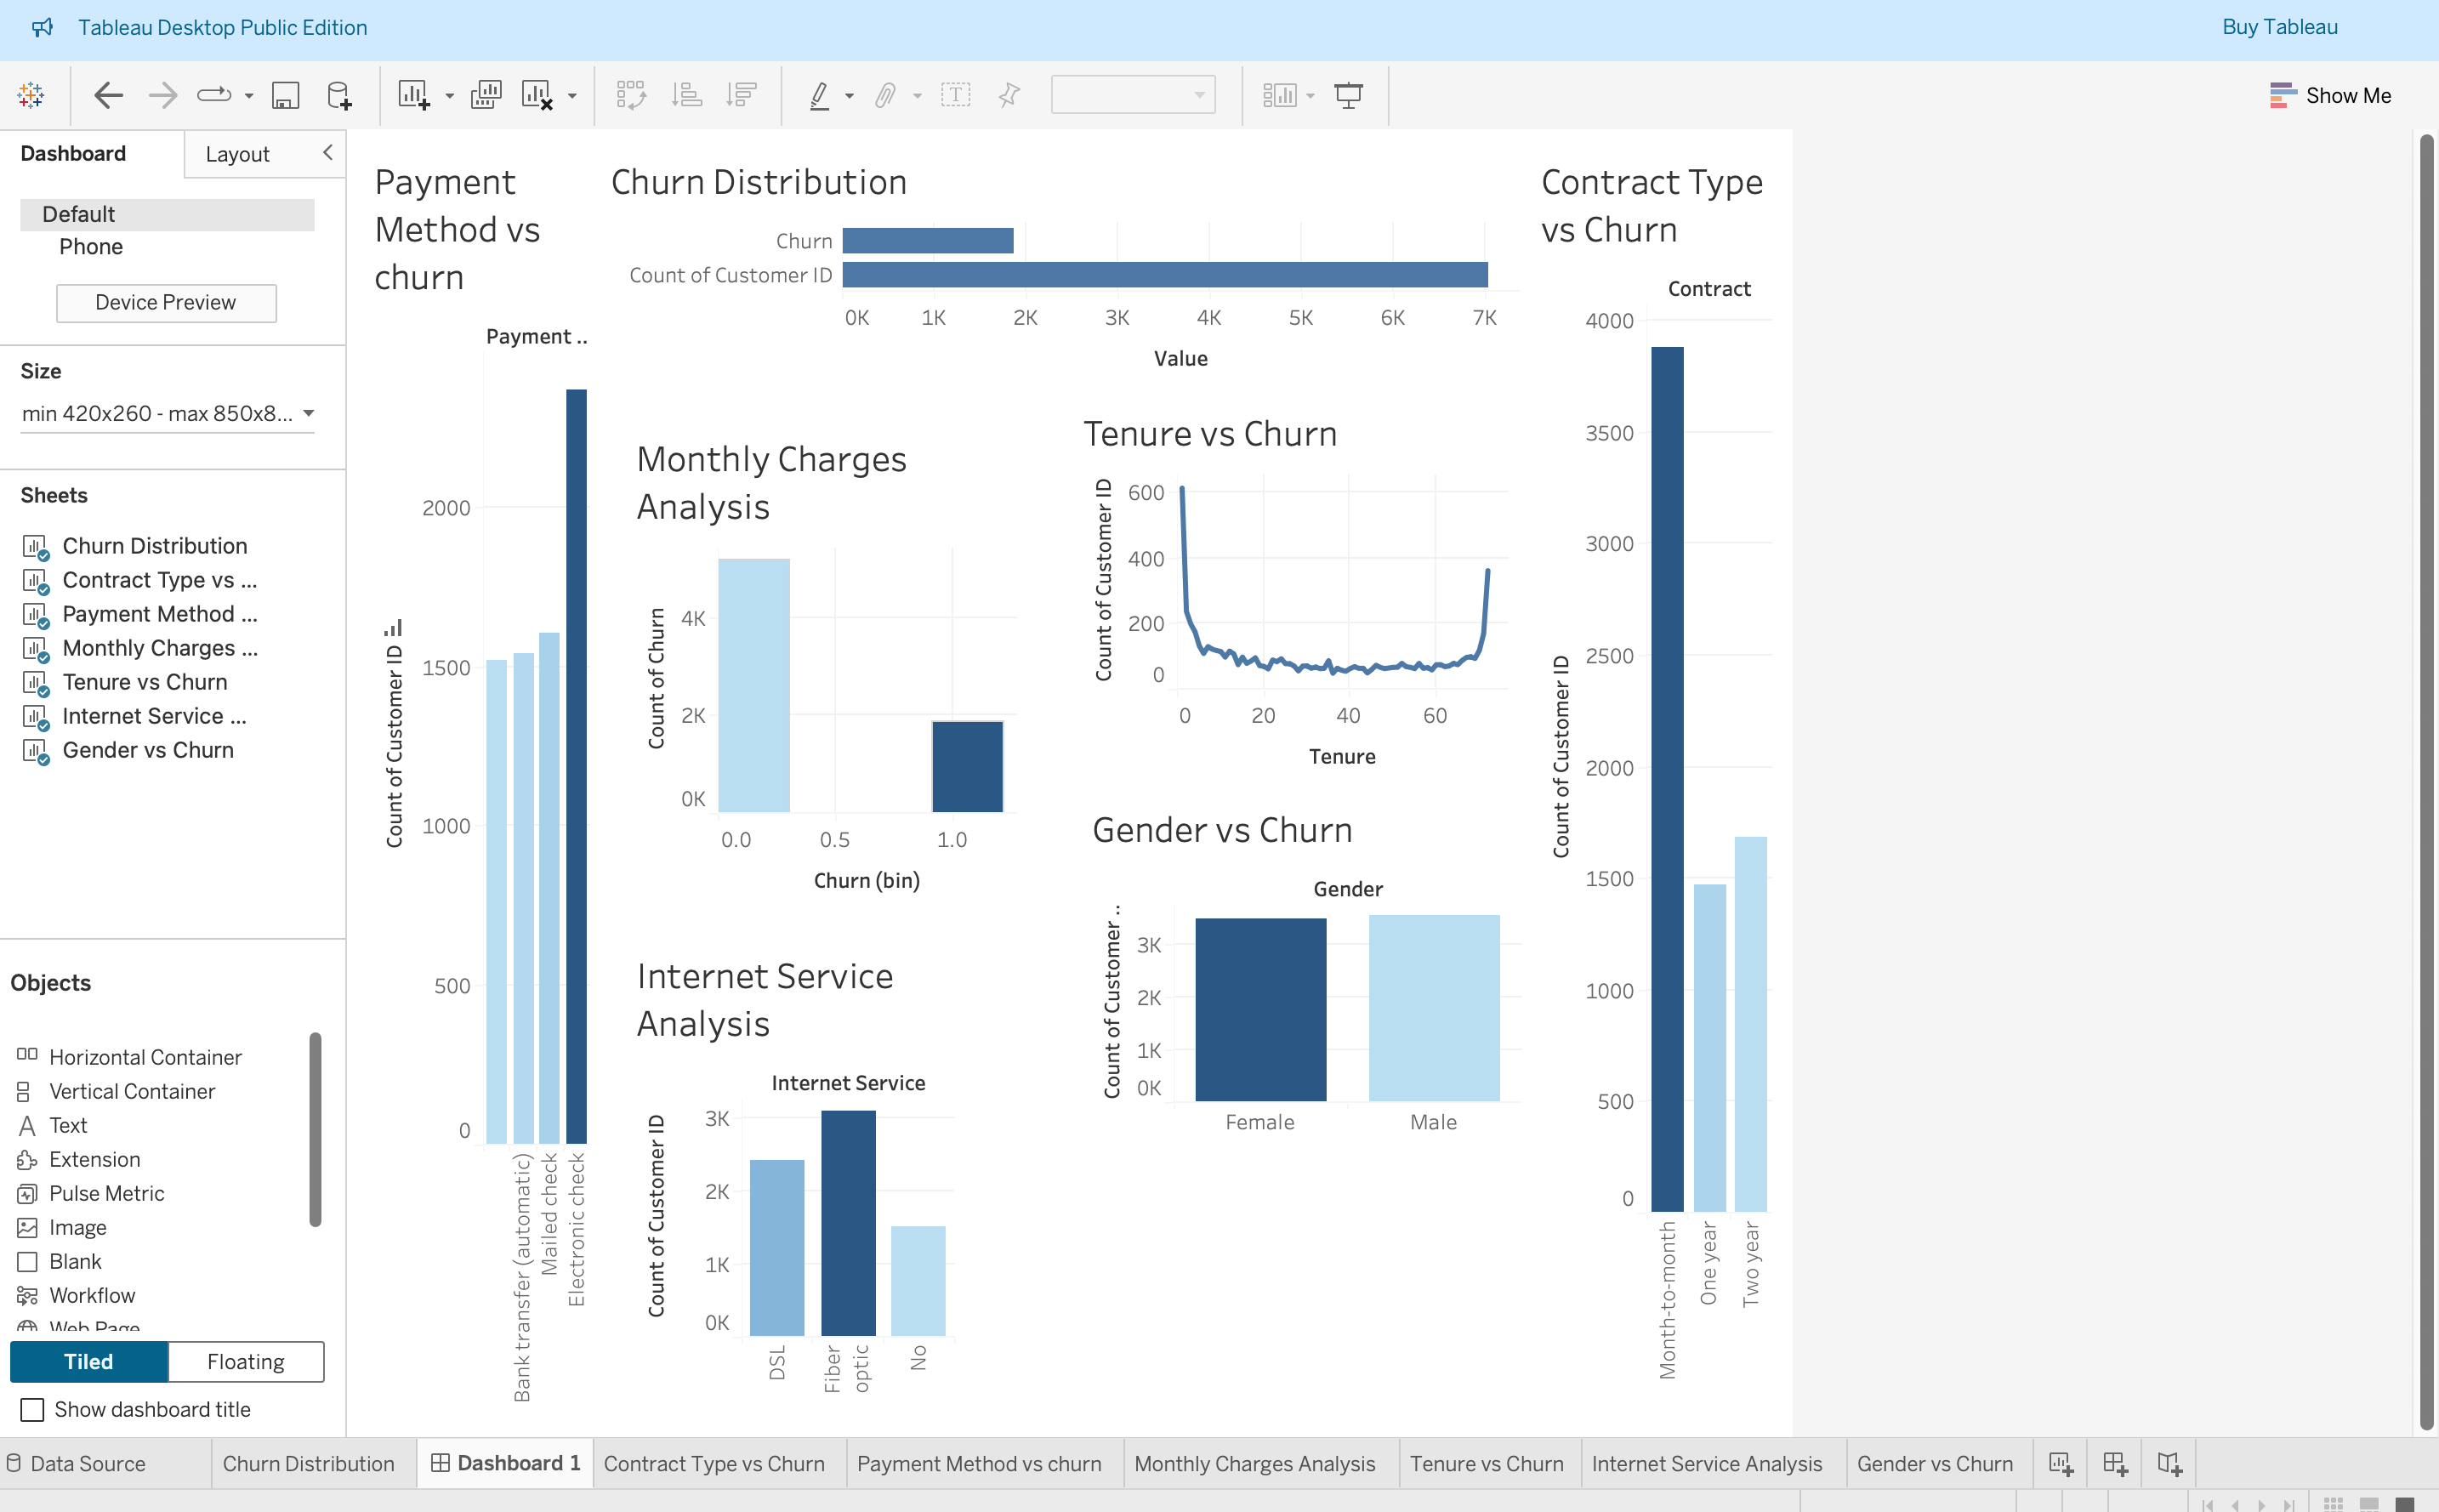

Layout of this report page (visuals, bound fields, positions):
{"tool":"tableau","page":{"name":"Dashboard 1","canvas":[1000,1000],"units":"permille","ordinal":0},"visuals":[{"type":"worksheet","title":"Payment Method vs churn","mark":"Automatic","rows":["customerID"],"cols":["PaymentMethod"],"box":[9.4,11.2,163.5,977.5]},{"type":"worksheet","title":"Churn Distribution","mark":"Automatic","box":[172.9,11.2,643.5,977.5]},{"type":"worksheet","title":"Contract Type vs Churn","mark":"Automatic","rows":["customerID"],"cols":["Contract"],"box":[816.5,11.2,174.1,977.5]},{"type":"worksheet","title":"Tenure vs Churn","mark":"Automatic","rows":["customerID"],"cols":["tenure"],"box":[504.7,208.2,298.8,291.1]},{"type":"worksheet","title":"Monthly Charges Analysis","mark":"Automatic","rows":["Churn"],"cols":["Churn (bin)"],"box":[195.3,227.8,268.2,367.1]},{"type":"worksheet","title":"Gender vs Churn","mark":"Automatic","rows":["customerID"],"cols":["gender"],"box":[510.6,510.6,302.4,260.2]},{"type":"worksheet","title":"Internet Service Analysis","mark":"Automatic","rows":["customerID"],"cols":["InternetService"],"box":[195.3,622.9,225.9,352.4]}]}

Visuals, with their boxes on the dashboard's canvas, which has no fixed pixel size, in thousandths of its width and height (x1, y1, x2, y2). These are canvas units, not pixel positions in the 2439x1512 screenshot, which may show the page scaled, cropped or inside an application window:
"Payment Method vs churn" worksheet: bbox(9, 11, 173, 989)
"Churn Distribution" worksheet: bbox(173, 11, 816, 989)
"Contract Type vs Churn" worksheet: bbox(816, 11, 991, 989)
"Tenure vs Churn" worksheet: bbox(505, 208, 804, 499)
"Monthly Charges Analysis" worksheet: bbox(195, 228, 464, 595)
"Gender vs Churn" worksheet: bbox(511, 511, 813, 771)
"Internet Service Analysis" worksheet: bbox(195, 623, 421, 975)
